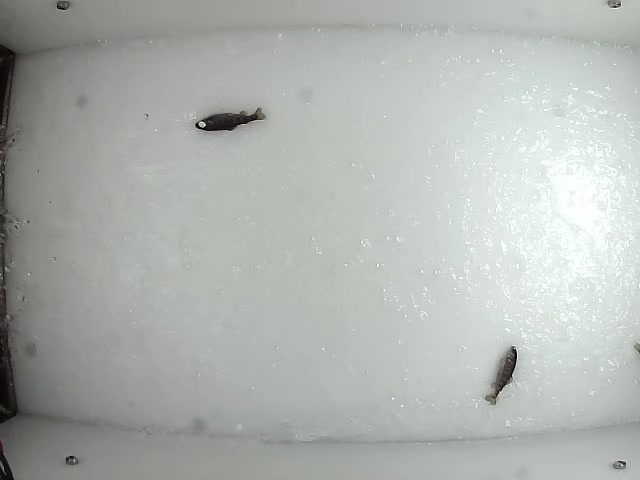fish: (483, 344, 519, 407), (193, 105, 271, 133)
